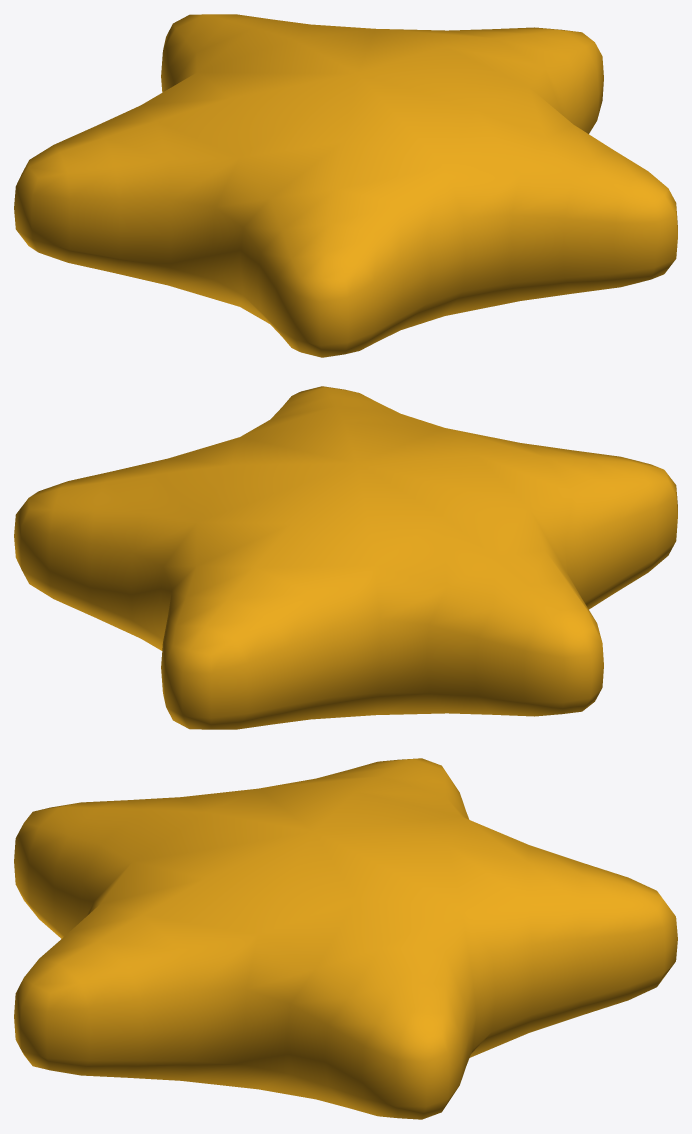
The model's file is Star.fbx.
The picture shows the model from 3 angles, top to bottom: view 1: azimuth 30°, elevation 25°; view 2: azimuth 150°, elevation 25°; view 3: azimuth 270°, elevation 25°; orthographic projection. The views are drawn at different scales.
Visible parts, largest first — view 1: Star; view 2: Star; view 3: Star.
Part boxes in pixels (bbox=[...]): Star: bbox=[14, 14, 677, 357]; Star: bbox=[14, 386, 677, 729]; Star: bbox=[14, 758, 677, 1119].
Bounding box in the file's own units: 0.6312 × 0.2157 × 0.6059.
